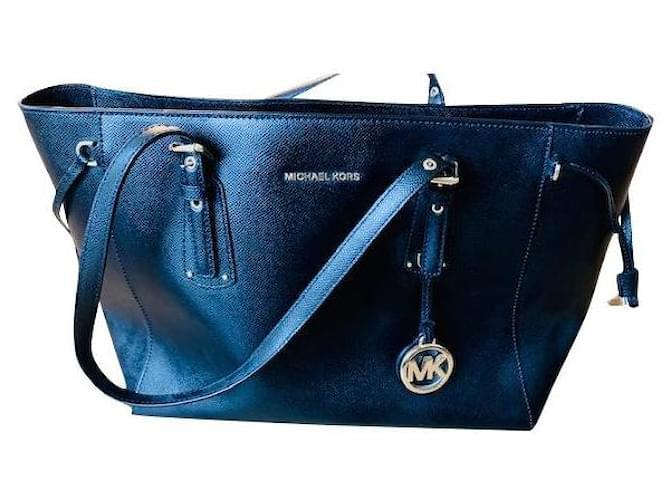MICHAEL-KORS: (284, 172, 360, 181)
